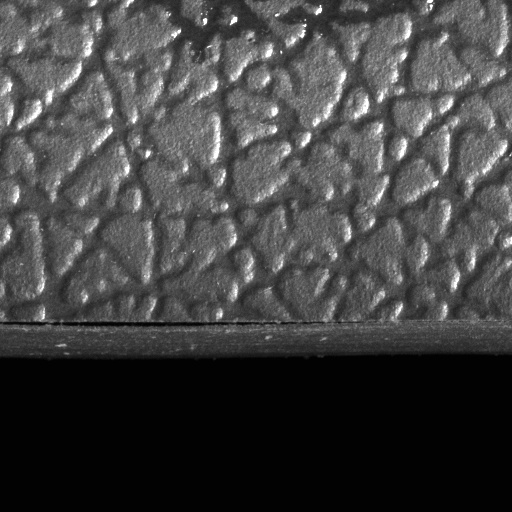jiaofeng: (0, 313, 266, 337)
